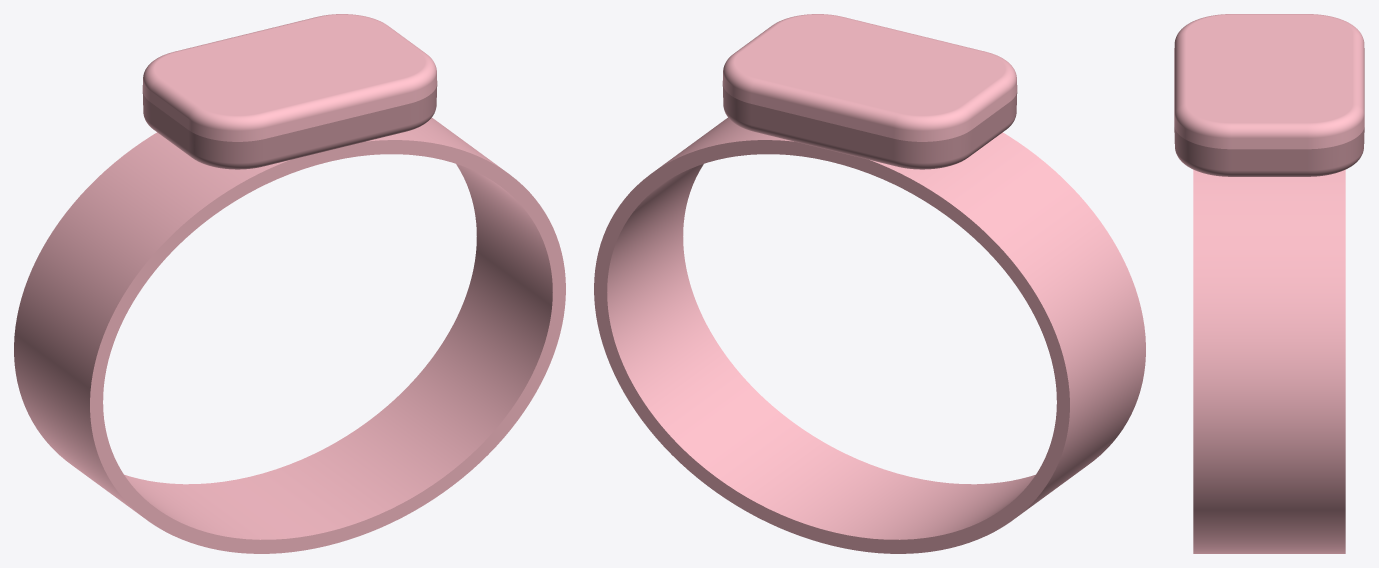
The picture shows the model from 3 angles, left to right: view 1: azimuth 30°, elevation 25°; view 2: azimuth 150°, elevation 25°; view 3: azimuth 270°, elevation 25°; orthographic projection.
Parts seen in each view (by area): view 1: strap.1, body.1, accent.1; view 2: strap.1, body.1, accent.1; view 3: strap.1, body.1, accent.1.
Part boxes in pixels (<box>): strap.1: <box>14,117,565,553</box>; body.1: <box>142,14,437,141</box>; accent.1: <box>142,85,437,169</box>; strap.1: <box>594,117,1145,553</box>; body.1: <box>722,14,1017,141</box>; accent.1: <box>722,85,1017,169</box>; strap.1: <box>1193,169,1345,553</box>; body.1: <box>1174,14,1364,149</box>; accent.1: <box>1174,127,1364,176</box>.
Size of the model in its own units: 0.0868 by 0.0788 by 0.03.
